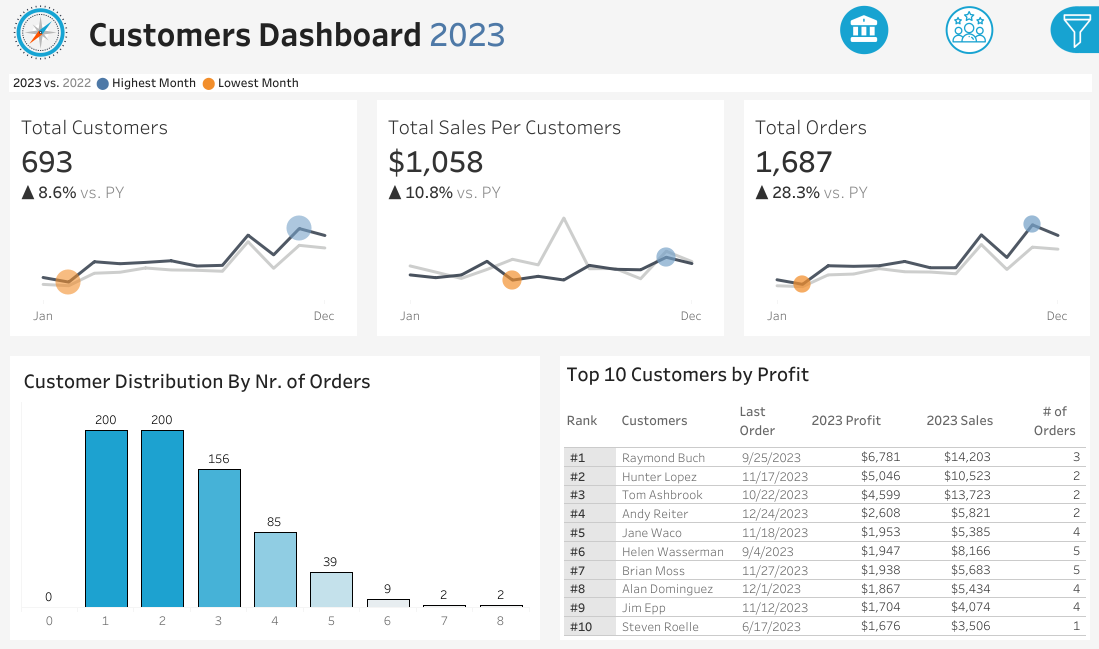

Layout of this report page (visuals, bound fields, positions):
{"tool":"tableau","page":{"name":"Customer Dashboard","canvas":[1100,650],"ordinal":0},"visuals":[{"type":"image","param":"C:/Users/Harrison/Downloads/TABLEAU DATA/sales-dashboard-project/sales-dashboard","box":[0,0,82,65]},{"type":"text","box":[82,0,1018,65]},{"type":"dashboard-object","box":[812,1,105,58]},{"type":"dashboard-object","box":[917,1,105,58]},{"type":"text","box":[942,10,147,34]},{"type":"parameter","param":"[Parameters].[Parameter 0944498650750980]","box":[942,44,147,52]},{"type":"worksheet","title":"Legend KPI","mark":"Automatic","box":[0,65,1100,35]},{"type":"blank","box":[942,96,147,47]},{"type":"worksheet","title":"KPI Customers","mark":"Line","rows":["Calculation_0964565093314566"],"cols":["Order Date"],"box":[0,100,367,246]},{"type":"worksheet","title":"KPI Sales Per Customer","mark":"Automatic","rows":["Calculation_0944498662797326","Calculation_0282593093992454"],"cols":["Order Date"],"box":[367,100,367,246]},{"type":"worksheet","title":"KPI Orders","mark":"Automatic","rows":["Calculation_0703981110706180"],"cols":["Order Date"],"box":[734,100,366,246]},{"type":"text","box":[942,143,147,29]},{"type":"filter","title":"KPI Customers","param":"[federated.0c2b9on1gvkbu012eh3pb0r9xuzw].[none:Category:nk]","box":[942,172,147,52]},{"type":"filter","title":"KPI Customers","param":"[federated.0c2b9on1gvkbu012eh3pb0r9xuzw].[none:Sub-Category:nk]","box":[942,224,147,52]},{"type":"text","box":[942,276,147,29]},{"type":"filter","title":"KPI Customers","param":"[federated.0c2b9on1gvkbu012eh3pb0r9xuzw].[none:Region:nk]","box":[942,305,147,52]},{"type":"text","box":[560,356,530,34]},{"type":"filter","title":"KPI Customers","param":"[federated.0c2b9on1gvkbu012eh3pb0r9xuzw].[none:State:nk]","box":[942,357,147,52]},{"type":"text","box":[17,363,516,34]},{"type":"text","box":[560,396,55,47]},{"type":"text","box":[615,396,118,47]},{"type":"text","box":[733,396,72,47]},{"type":"text","box":[805,396,115,47]},{"type":"text","box":[920,396,99.6,47]},{"type":"text","box":[1019.6,396,70.4,47]},{"type":"worksheet","title":"Customer Distribution","mark":"Bar","rows":["Calculation_0964565091074051"],"cols":["Calculation_0703981109665793"],"box":[17,397,516,236]},{"type":"filter","title":"KPI Customers","param":"[federated.0c2b9on1gvkbu012eh3pb0r9xuzw].[none:City:nk]","box":[942,409,147,32]},{"type":"worksheet","title":"Top Customers","mark":"Automatic","rows":["Calculation_0703981120712712","Customer Name","Order Date"],"box":[560,443,530,197]}]}

Visuals, with their boxes in screenshot pixels (x1, y1, x2, y2), scaled from the page's 1100x650 canvas onto the 1099x649 screenshot:
image: (0,0,82,65)
text: (82,0,1098,65)
dashboard-object: (811,1,916,59)
dashboard-object: (916,1,1021,59)
text: (941,10,1088,44)
parameter: (941,44,1088,96)
"Legend KPI" worksheet: (0,65,1098,100)
blank: (941,96,1088,143)
"KPI Customers" worksheet (Line marks): (0,100,367,345)
"KPI Sales Per Customer" worksheet: (367,100,733,345)
"KPI Orders" worksheet: (733,100,1098,345)
text: (941,143,1088,172)
"KPI Customers" filter: (941,172,1088,224)
"KPI Customers" filter: (941,224,1088,276)
text: (941,276,1088,305)
"KPI Customers" filter: (941,305,1088,356)
text: (559,355,1089,389)
"KPI Customers" filter: (941,356,1088,408)
text: (17,362,533,396)
text: (559,395,614,442)
text: (614,395,732,442)
text: (732,395,804,442)
text: (804,395,919,442)
text: (919,395,1019,442)
text: (1019,395,1089,442)
"Customer Distribution" worksheet (Bar marks): (17,396,533,632)
"KPI Customers" filter: (941,408,1088,440)
"Top Customers" worksheet: (559,442,1089,639)
